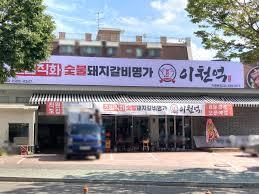galbi: (110, 64, 132, 79)
